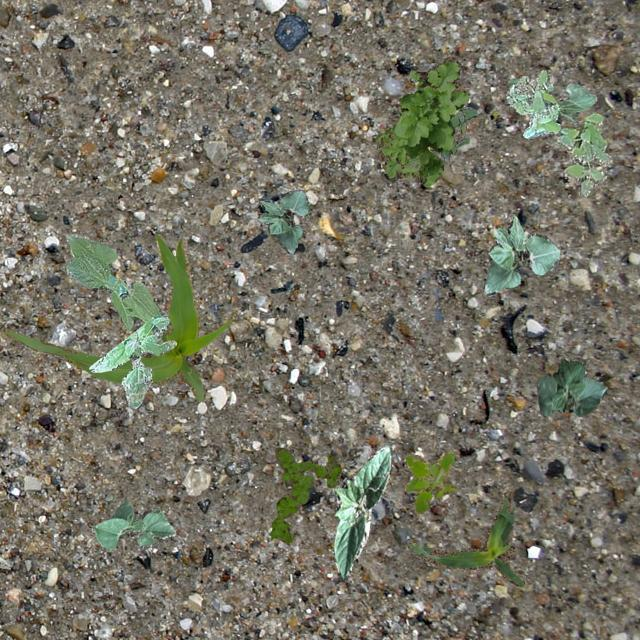crop: (0, 232, 232, 400), (406, 490, 524, 586), (64, 234, 168, 330), (332, 444, 390, 580), (482, 212, 560, 294), (90, 500, 174, 550), (536, 358, 606, 416), (508, 78, 596, 120), (256, 188, 306, 254)
weed: (376, 56, 468, 186), (88, 314, 175, 408), (268, 447, 339, 542), (556, 112, 610, 196), (506, 70, 560, 138), (404, 448, 456, 512), (432, 104, 477, 160)
